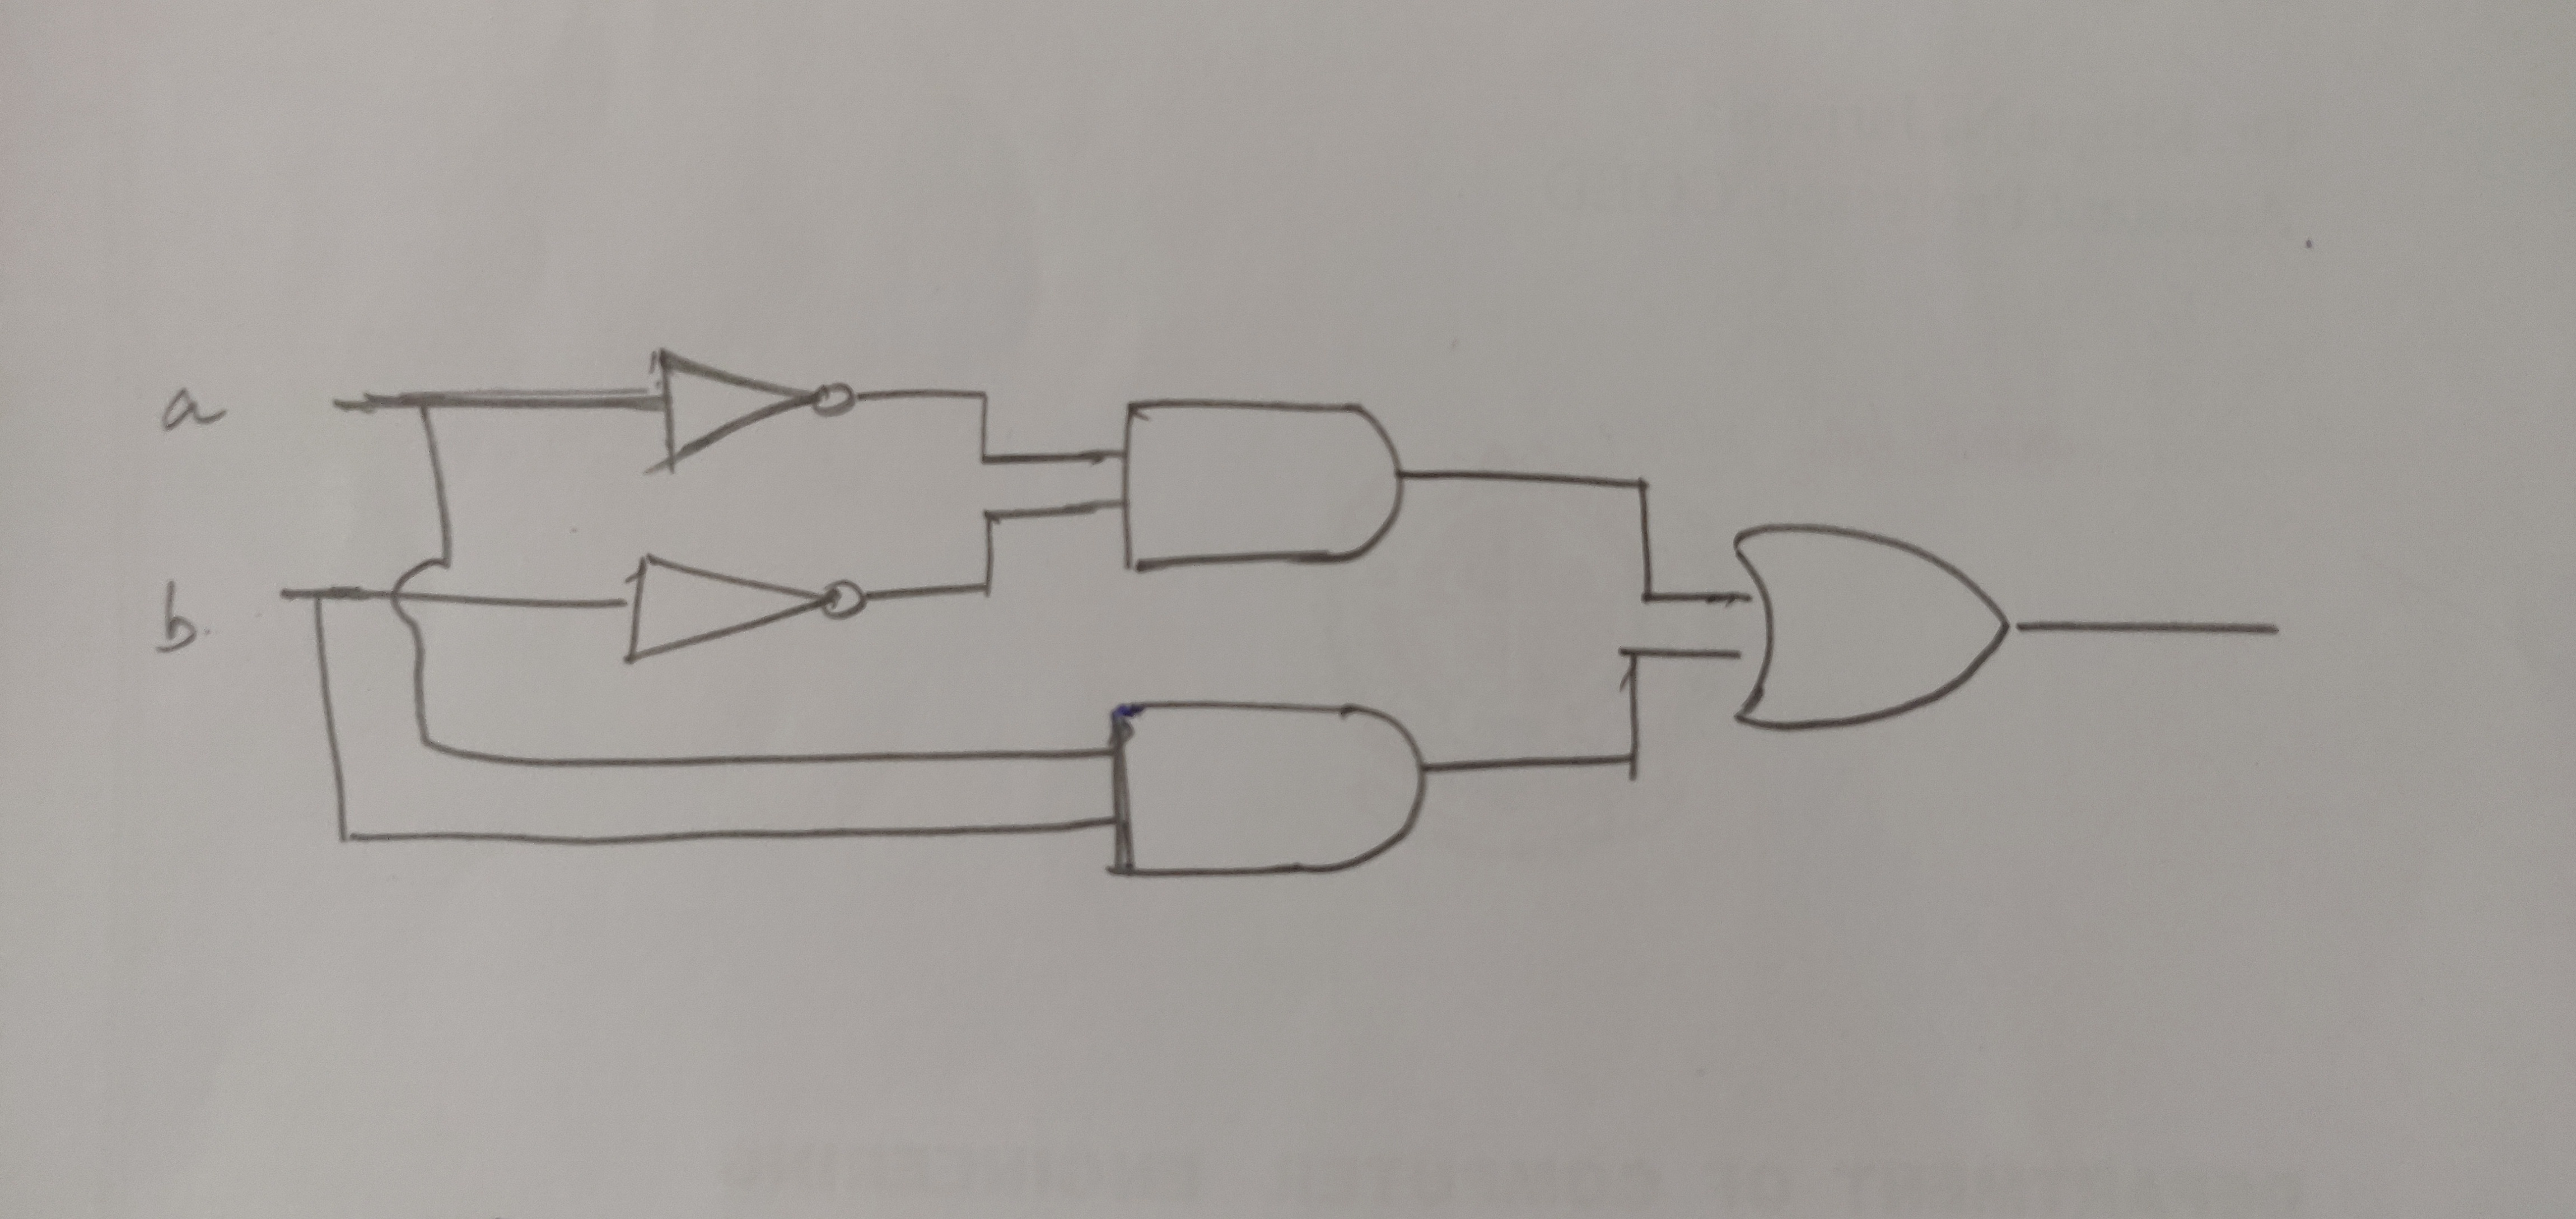and: (1058, 338, 1452, 665), (1096, 678, 1465, 958)
not: (600, 312, 889, 511), (600, 534, 895, 692)
or: (1682, 481, 2045, 803)
